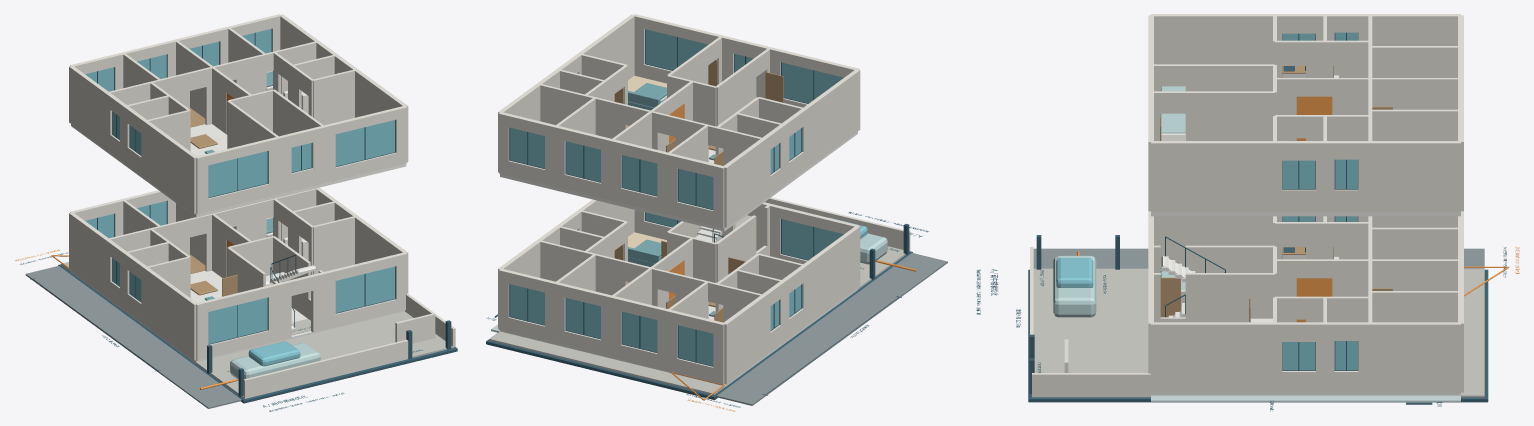
Rendered from A_comparison.glb.
The picture shows the model from 3 angles, left to right: view 1: azimuth 30°, elevation 25°; view 2: azimuth 150°, elevation 25°; view 3: azimuth 270°, elevation 25°; orthographic projection. The views are drawn at different scales.
Visible parts, largest first — view 1: West road schematic, South court 5m, South boundary, F1_Side exterior.001, F2_Side exterior.001, F1_Side exterior.009, F2_Side exterior.009, House and yard presentation base, F2_Kitchen south partition.003, F1_Kitchen south partition.003, F1_South facade_upper_glass, F2_South facade_upper_glass (+88 smaller); view 2: West road schematic, North setback, F1_Side exterior.001, F2_Side exterior.001, F2_Side exterior.009, F1_Side exterior.009, House and yard presentation base, F2_South stair side.004, F2_Side exterior.011, F2_South facade_upper_glass.002, F1_South facade_upper_glass, South boundary (+88 smaller); view 3: South court 5m, F2_Side exterior.011, F1_Side exterior.011, F2_Side exterior.001, F2_Side exterior.019, F1_Side exterior.019, F2_South stair side.009, F1_Central middle north.001, F2_Central middle north.001, F1_Stair side solid-to-north-opening RIGHT upper, F2_Side exterior.010, F1_Side exterior.010 (+61 smaller).
Part boxes in pixels (bbox=[...]): West road schematic: bbox=[25, 266, 241, 408]; South court 5m: bbox=[196, 311, 454, 398]; South boundary: bbox=[243, 339, 408, 398]; F1_Side exterior.001: bbox=[141, 265, 196, 340]; F2_Side exterior.001: bbox=[141, 118, 196, 193]; F1_Side exterior.009: bbox=[69, 212, 113, 278]; F2_Side exterior.009: bbox=[69, 66, 113, 132]; House and yard presentation base: bbox=[58, 264, 457, 403]; F2_Kitchen south partition.003: bbox=[312, 69, 356, 116]; F1_Kitchen south partition.003: bbox=[312, 216, 354, 263]; F1_South facade_upper_glass: bbox=[208, 297, 267, 337]; F2_South facade_upper_glass: bbox=[208, 151, 267, 190]; West road schematic: bbox=[716, 253, 947, 405]; North setback: bbox=[489, 331, 724, 395]; F1_Side exterior.001: bbox=[800, 226, 860, 306]; F2_Side exterior.001: bbox=[799, 69, 860, 149]; F2_Side exterior.009: bbox=[723, 134, 770, 206]; F1_Side exterior.009: bbox=[724, 291, 770, 362]; House and yard presentation base: bbox=[486, 251, 912, 399]; F2_South stair side.004: bbox=[715, 58, 756, 125]; F2_Side exterior.011: bbox=[575, 14, 634, 74]; F2_South facade_upper_glass.002: bbox=[645, 29, 707, 64]; F1_South facade_upper_glass: bbox=[782, 219, 843, 254]; South boundary: bbox=[765, 197, 910, 250]; South court 5m: bbox=[1033, 268, 1148, 372]; F2_Side exterior.011: bbox=[1151, 141, 1282, 187]; F1_Side exterior.011: bbox=[1151, 322, 1282, 368]; F2_Side exterior.001: bbox=[1151, 14, 1282, 60]; F2_Side exterior.019: bbox=[1358, 141, 1460, 187]; F1_Side exterior.019: bbox=[1358, 322, 1460, 368]; F2_South stair side.009: bbox=[1185, 91, 1274, 137]; F1_Central middle north.001: bbox=[1332, 259, 1457, 296]; F2_Central middle north.001: bbox=[1332, 78, 1460, 114]; F1_Stair side solid-to-north-opening RIGHT upper: bbox=[1185, 273, 1274, 318]; F2_Side exterior.010: bbox=[1151, 187, 1282, 212]; F1_Side exterior.010: bbox=[1151, 369, 1282, 393].
Size of what is drawn, in the model's own units: 17.12 by 12 by 22.8.
